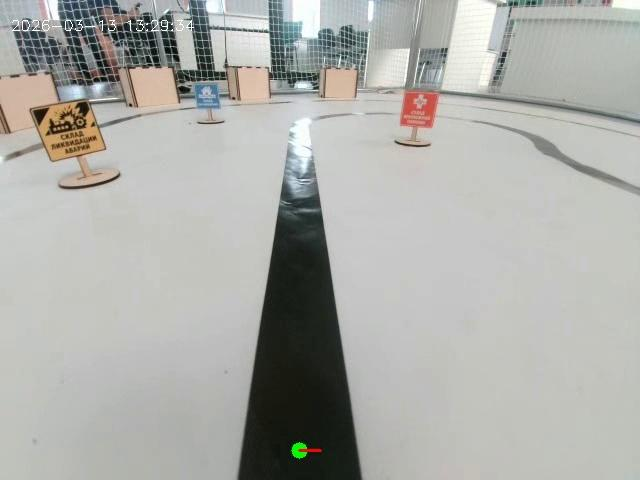flood: (189, 73, 234, 145)
industrial: (26, 95, 126, 209)
medical: (396, 77, 438, 164)
